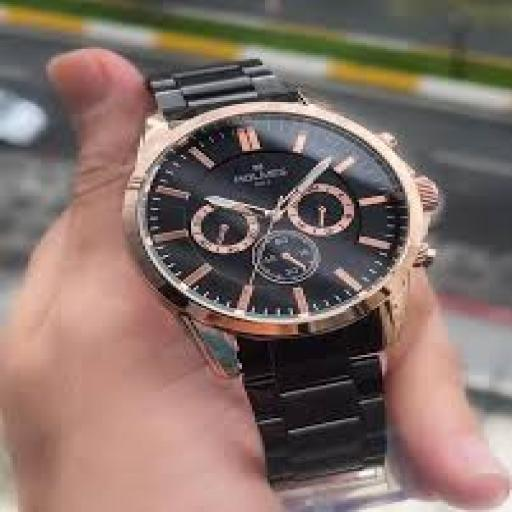KolSaati: (98, 28, 459, 492)
